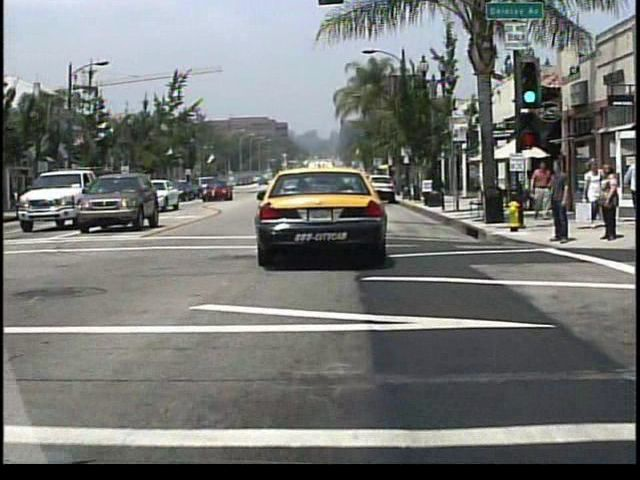person: (548, 157, 570, 244), (597, 165, 618, 243), (584, 159, 603, 231), (532, 164, 552, 219)
